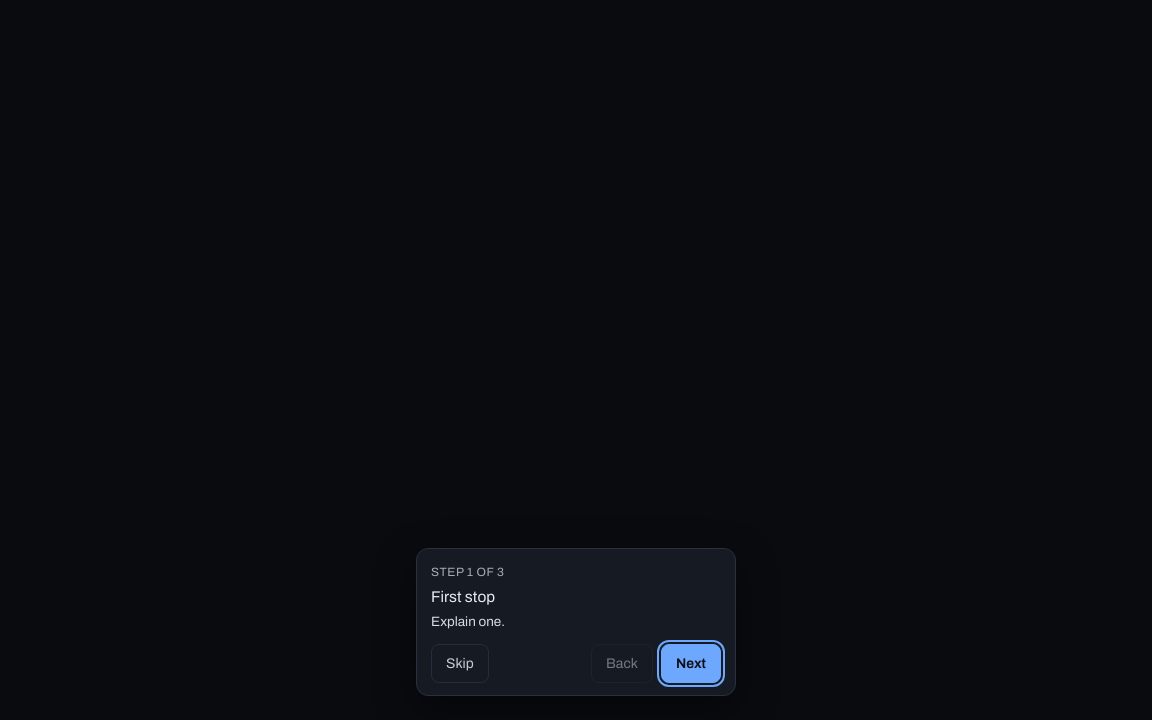
Test: SpotlightTour › reduced motion sets data-reduced and still steps instantly
The image size is (1152, 720).
Click the button "Next".
click(691, 664)  # box x1=661 y1=644 x2=721 y2=683
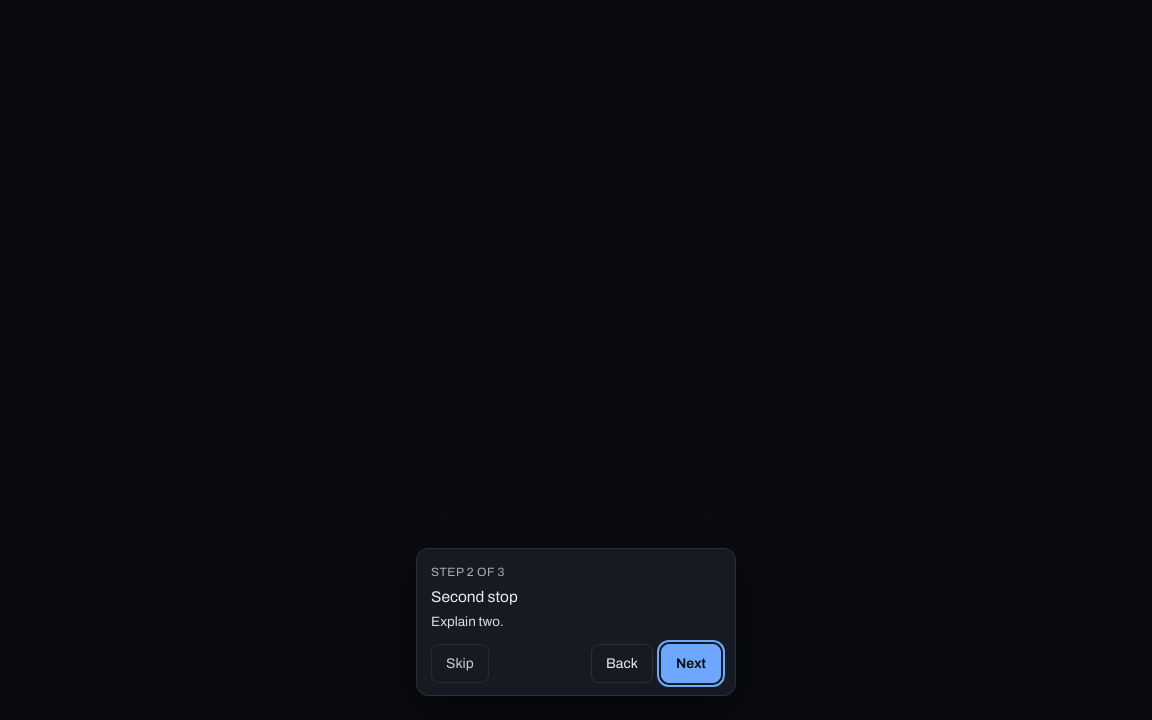
Expected: the heading "Second stop" is shown, x1=431 y1=588 x2=518 y2=605
